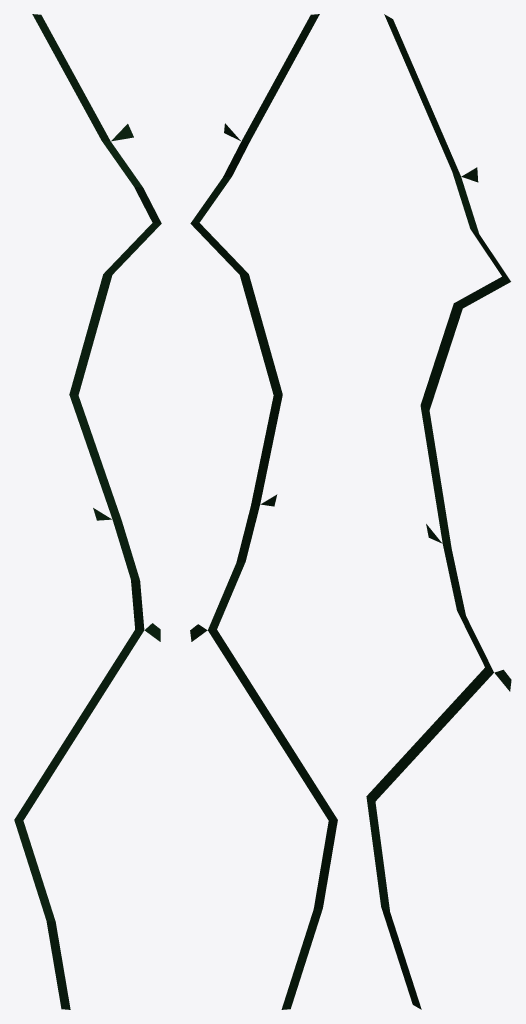
File: VineGD.glb
3 renders of one model, left to right at view 1: azimuth 30°, elevation 25°; view 2: azimuth 150°, elevation 25°; view 3: azimuth 330°, elevation 25°, orthographic.
Parts seen in each view (by area): view 1: vine; view 2: vine; view 3: vine.
Boxes of the visible parts, <box> form: vine: <box>14,14,161,1009</box>; vine: <box>190,14,337,1009</box>; vine: <box>366,14,511,1009</box>.
Bounding box in the file's own units: 2.62 × 17.09 × 0.3991.
